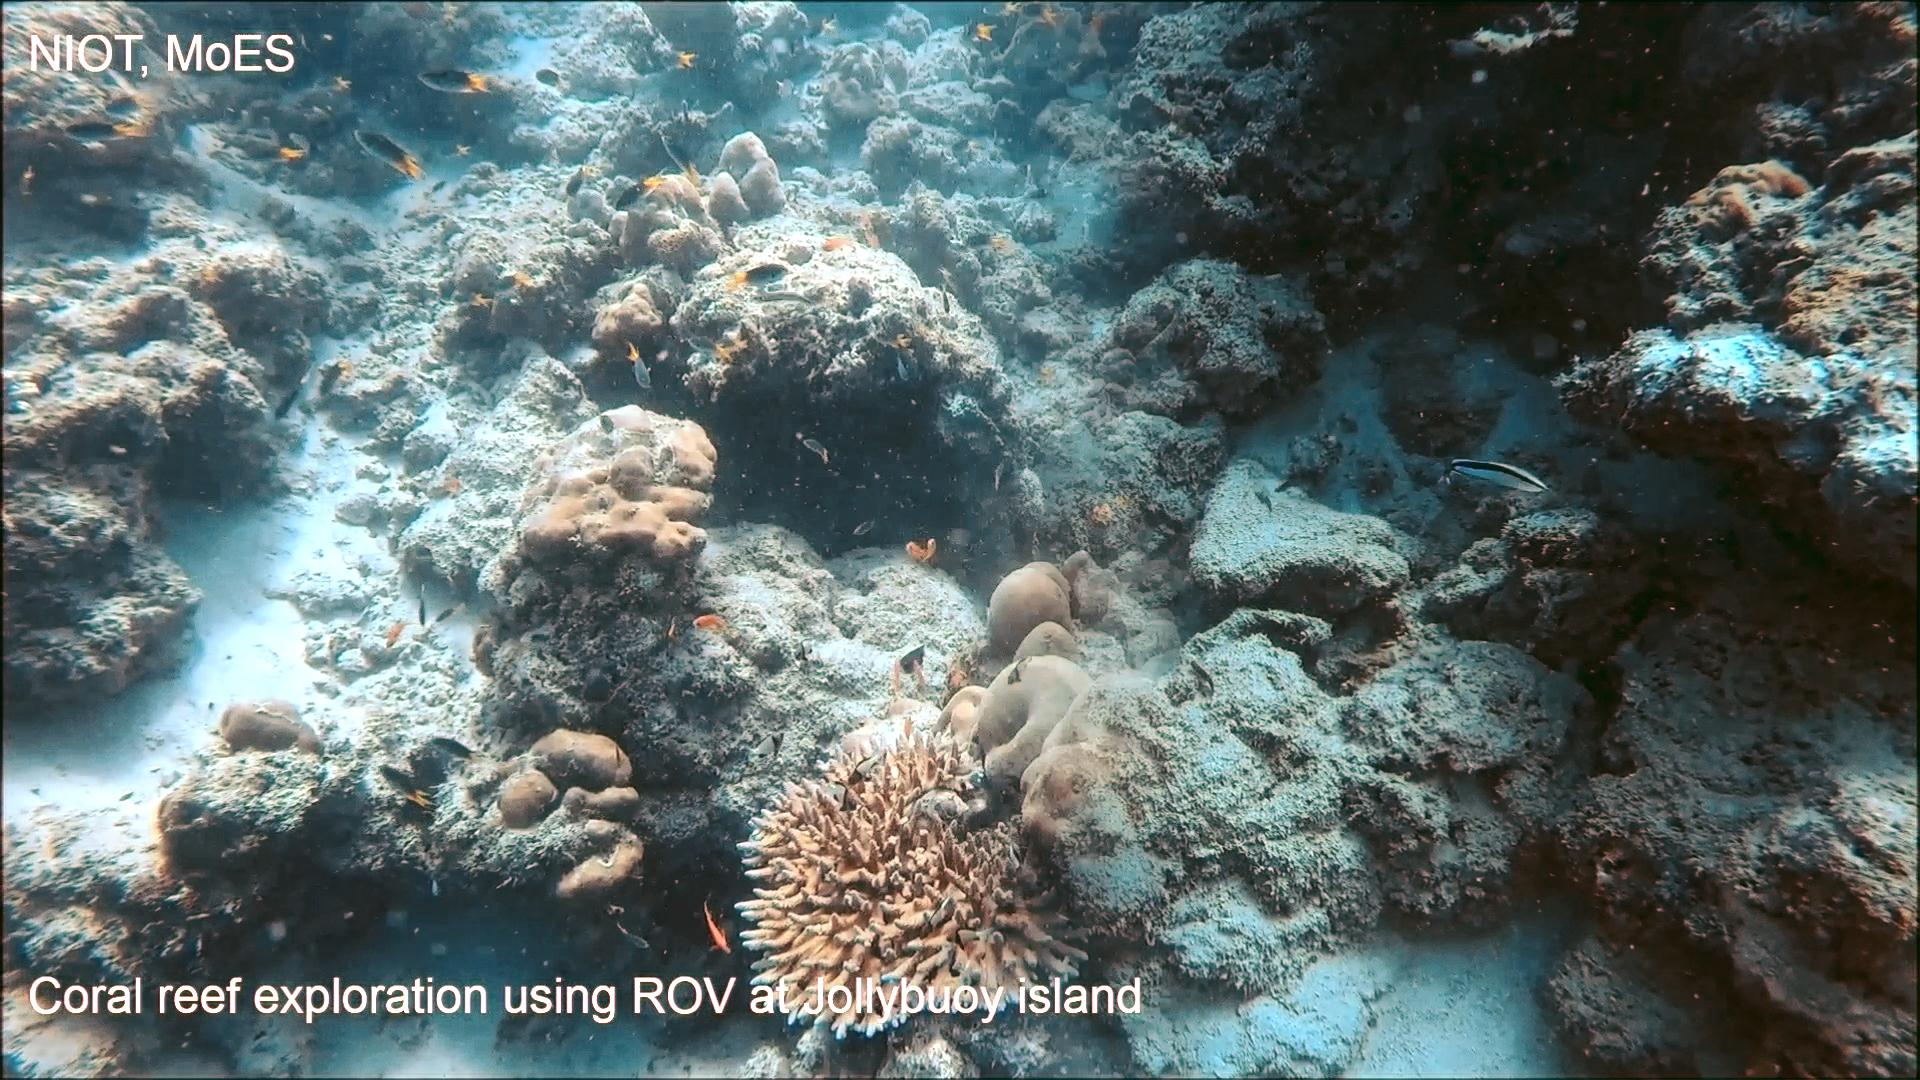Porites-Porites pukoensis: (968, 550, 1170, 843)
